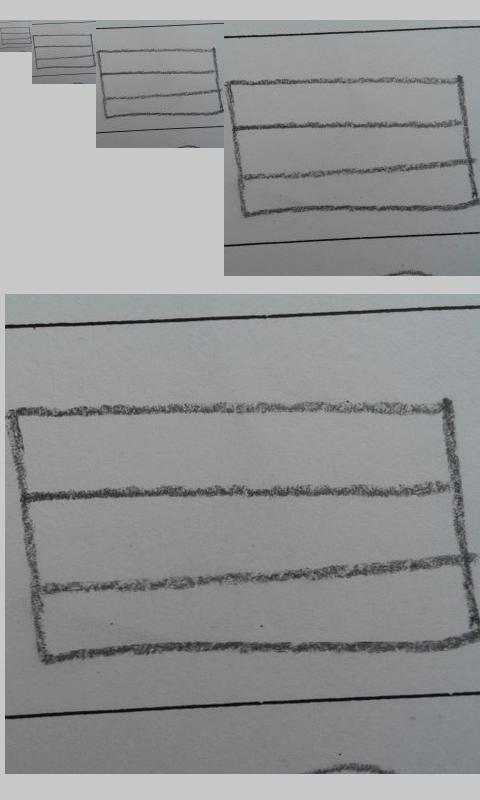list_view: (7, 400, 474, 664), (227, 78, 480, 217), (98, 48, 224, 119), (32, 34, 96, 70), (1, 26, 32, 45)
